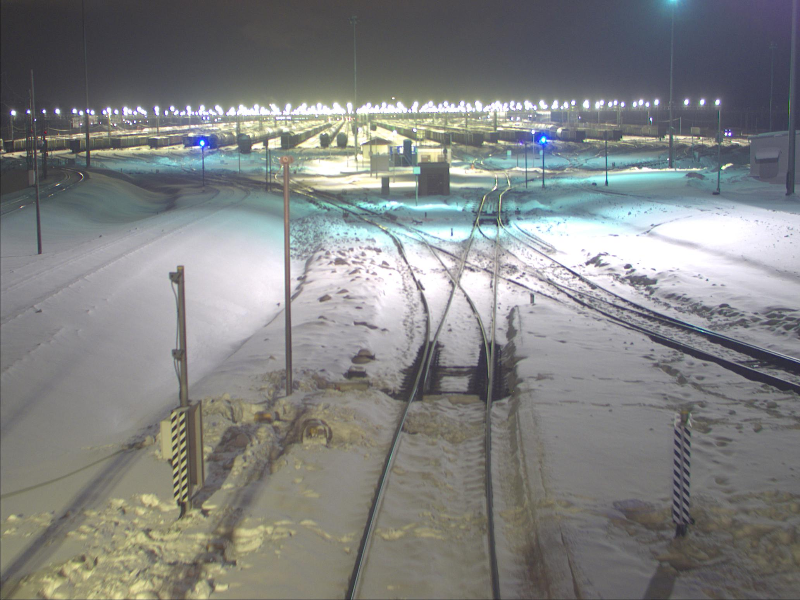left: (411, 342, 495, 395)
